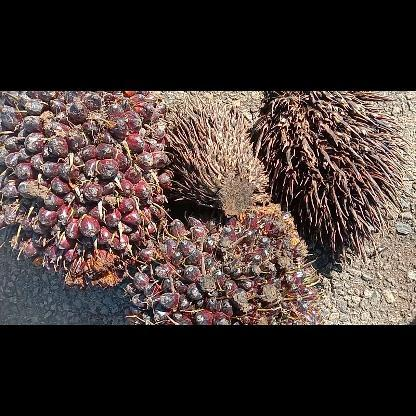Janjang kosong: (251, 90, 411, 266), (159, 91, 271, 216)
TBS mentah: (0, 91, 172, 287), (125, 202, 323, 324)
